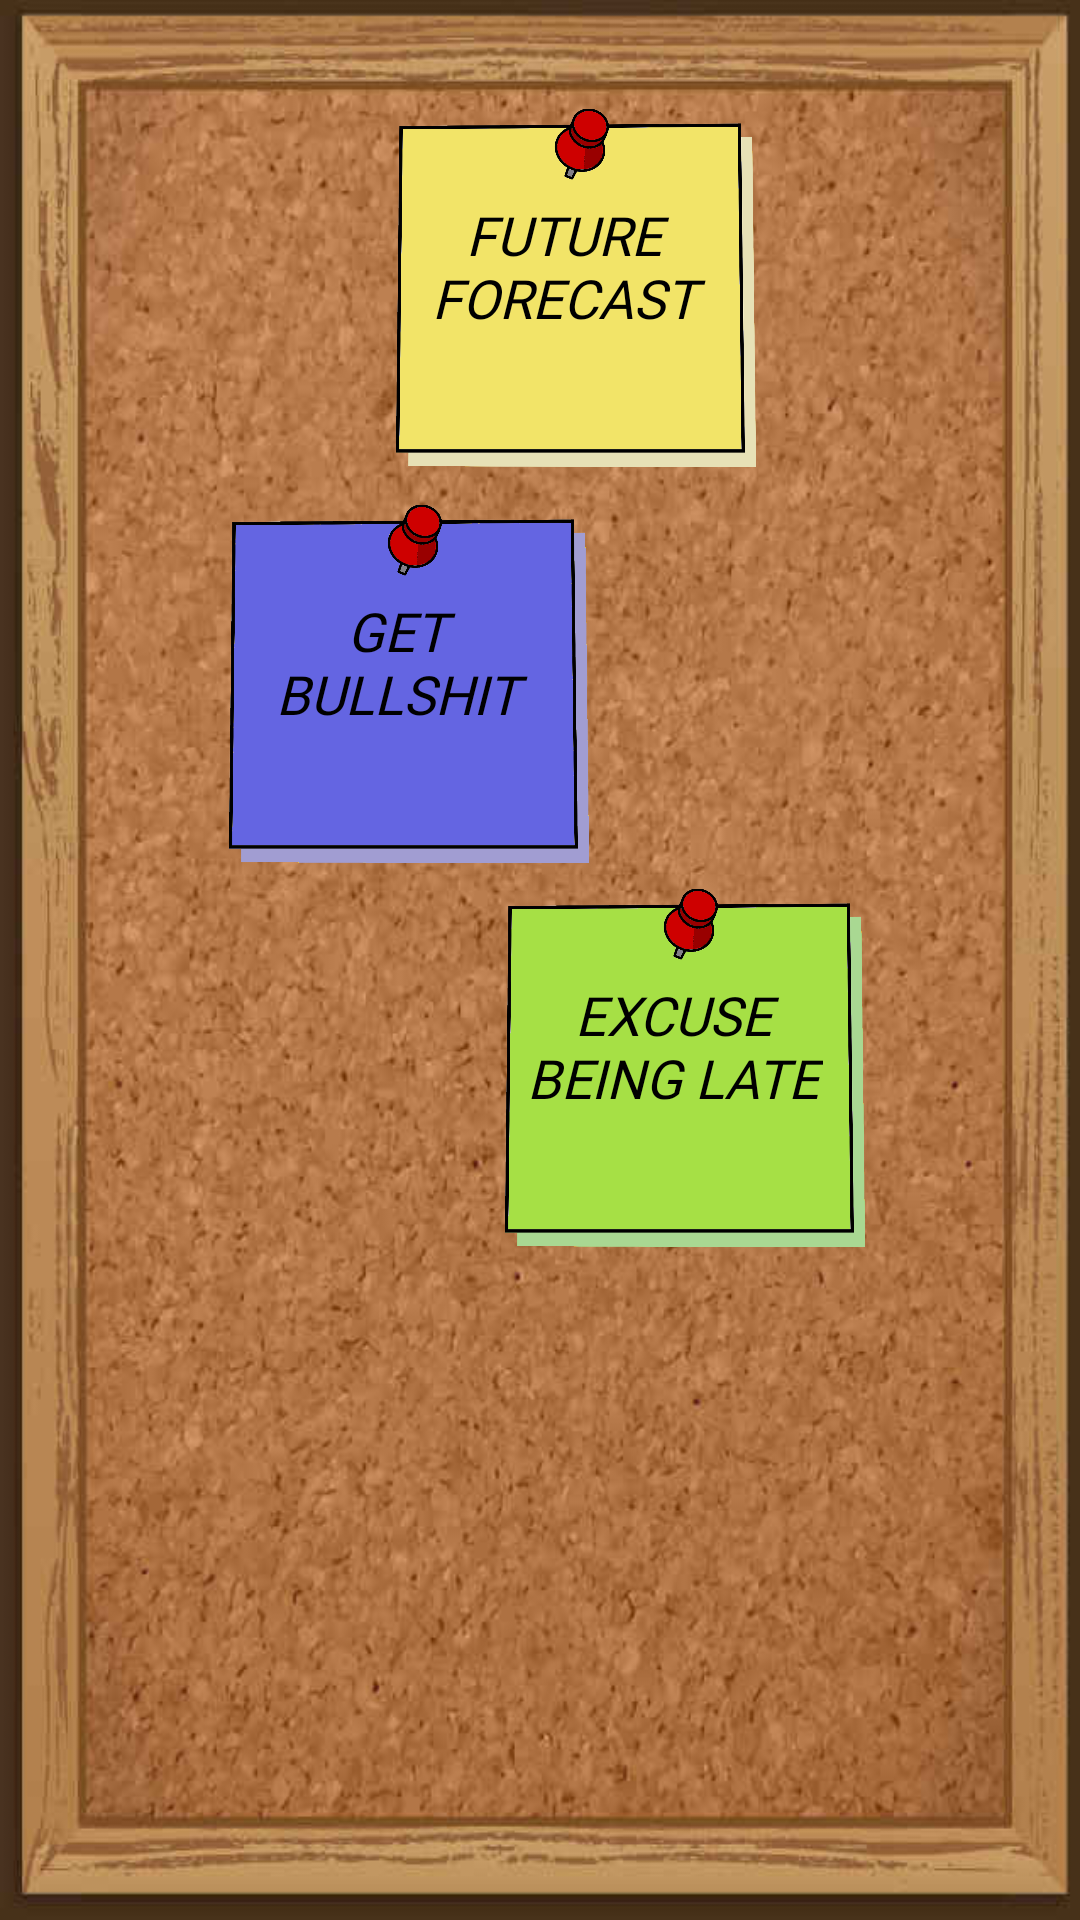

Point at icon controls on the screen. Image size 1080px x 1920px, points as point (x, y).
sticky: point (576, 288), point (409, 684), point (685, 1068)
